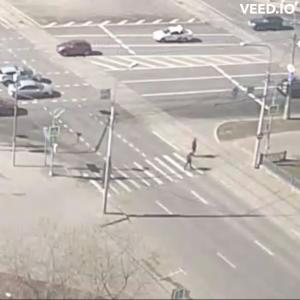car: (3, 81, 62, 102), (58, 42, 104, 59), (249, 16, 294, 33), (154, 29, 201, 45), (1, 64, 24, 85)
